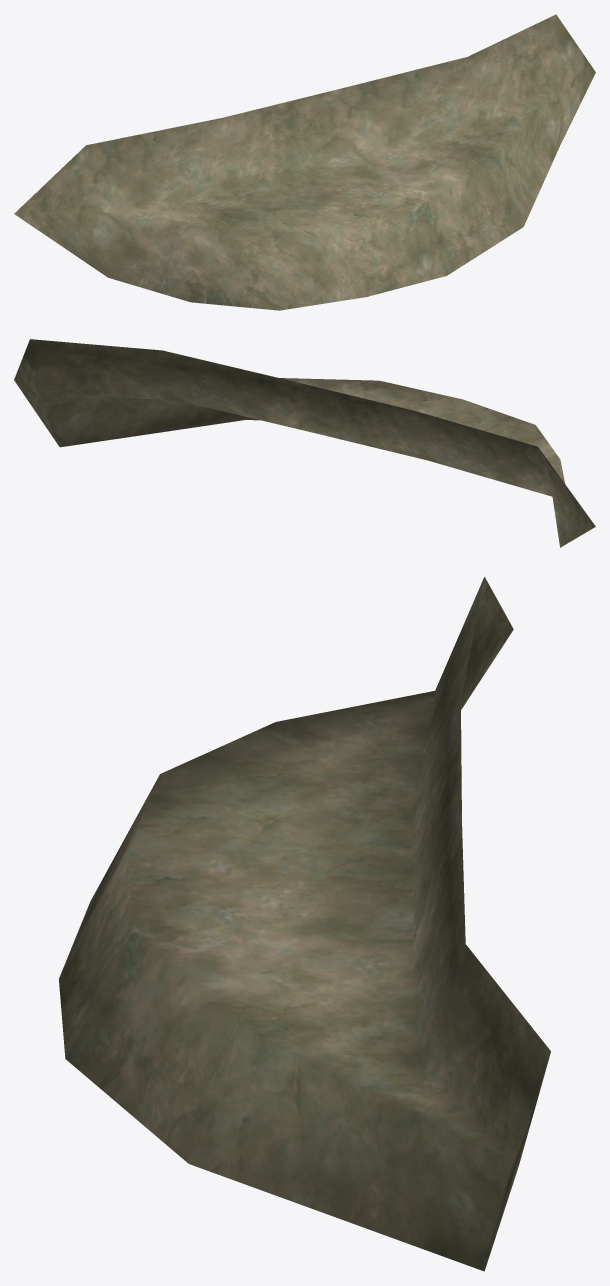
Rendered from EKH_THRONE_PS_TH_OBJECT18.fbx.
3 views of the same model, one above another, from view 1: azimuth 30°, elevation 25°; view 2: azimuth 150°, elevation 25°; view 3: azimuth 270°, elevation 25° (orthographic). The views are drawn at different scales.
Visible parts, largest first — view 1: EKH_THRONE_PS_TH_OBJECT18; view 2: EKH_THRONE_PS_TH_OBJECT18; view 3: EKH_THRONE_PS_TH_OBJECT18.
Part boxes in pixels (box(x1,y1,x2,y2)): EKH_THRONE_PS_TH_OBJECT18: box(14, 14, 595, 310); EKH_THRONE_PS_TH_OBJECT18: box(14, 339, 595, 547); EKH_THRONE_PS_TH_OBJECT18: box(59, 577, 550, 1271).
Bounding box in the file's own units: 46379 × 8900 × 17064.
1 material, 1 textured.
